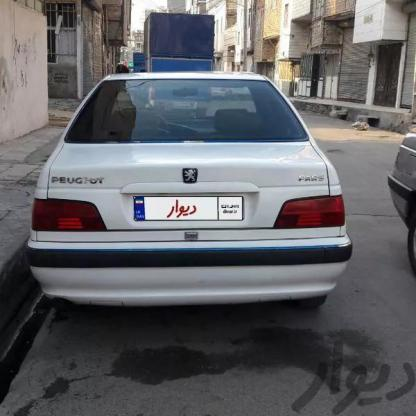Car: (0, 76, 352, 324), (143, 13, 211, 120), (381, 116, 416, 274)
